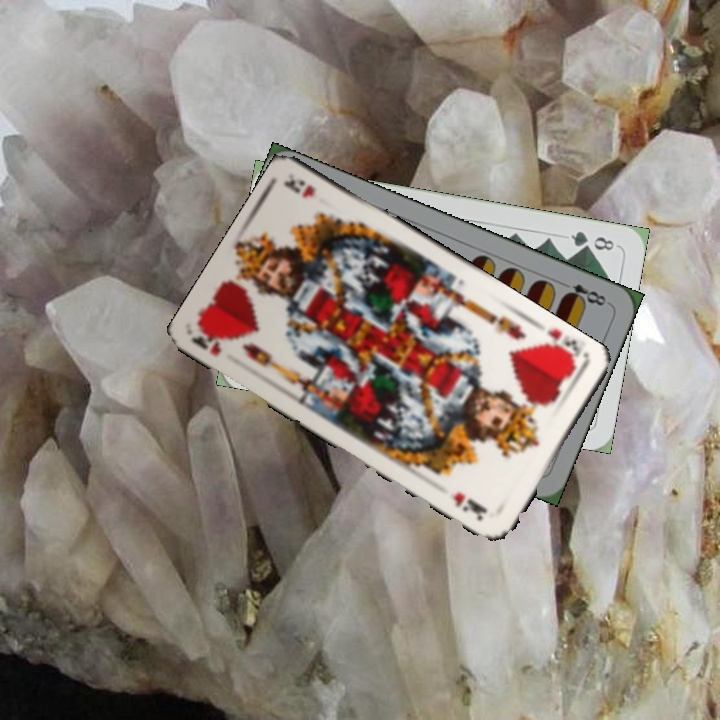E8: (556, 277, 609, 309)
G8: (566, 227, 617, 253)
HK: (534, 324, 591, 370), (188, 324, 229, 359)
